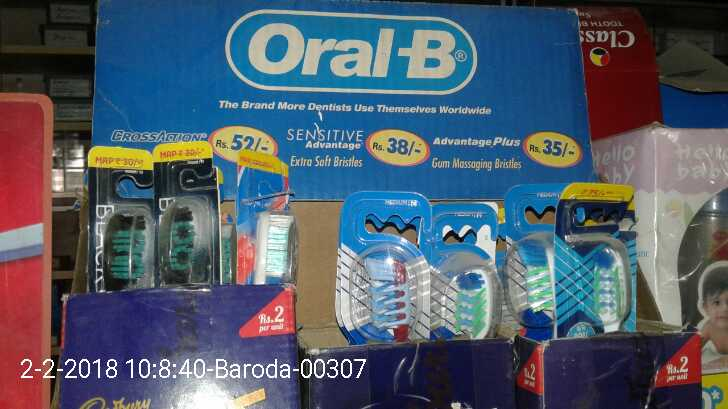oralb: (100, 160, 293, 284), (333, 235, 505, 346), (520, 237, 637, 334)
